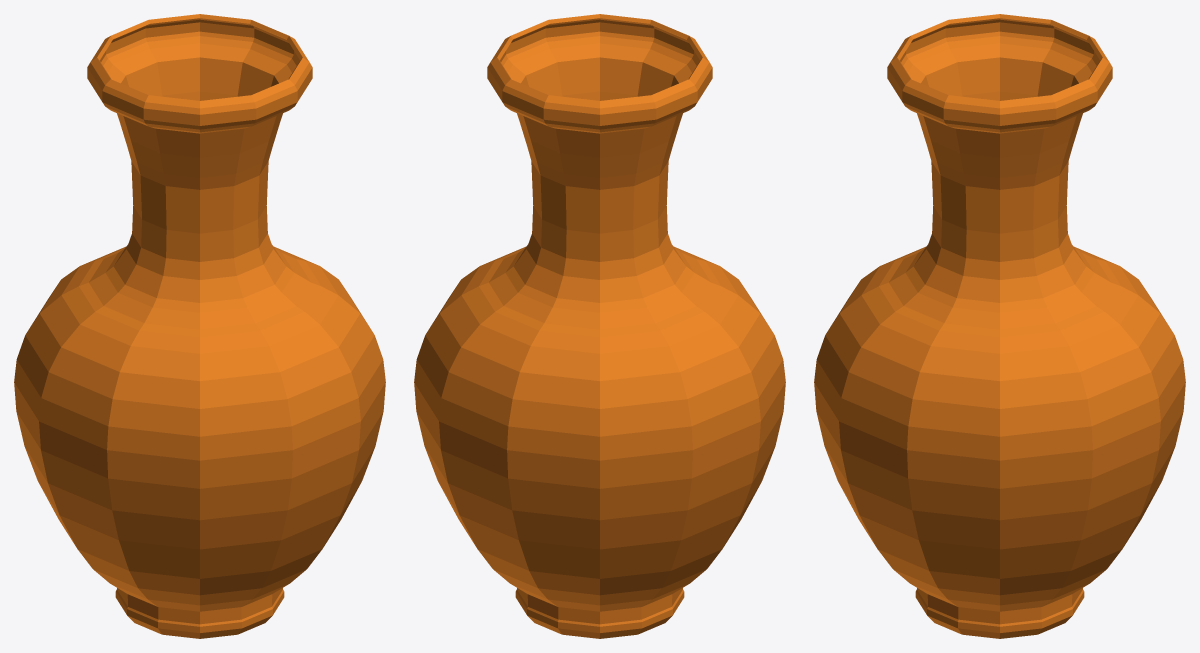
File: CtrlAlt_Vase_3.fbx
3 renders of one model, left to right at view 1: azimuth 30°, elevation 25°; view 2: azimuth 150°, elevation 25°; view 3: azimuth 270°, elevation 25°, orthographic.
Parts seen in each view (by area): view 1: Cube; view 2: Cube; view 3: Cube.
Boxes of the visible parts, <box> form: Cube: <box>14,14,385,638</box>; Cube: <box>414,14,785,638</box>; Cube: <box>814,14,1185,638</box>.
Bounding box in the file's own units: 259 × 430 × 259.
